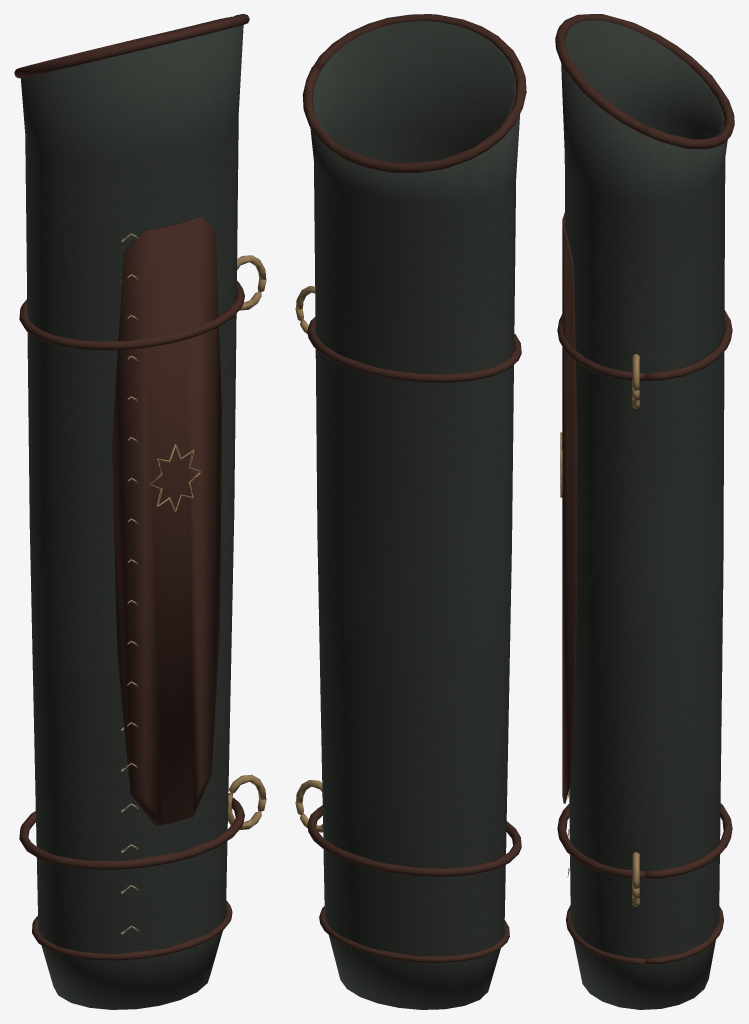
Rendered from quiver_lod1.glb.
3 views of the same model, side by side, from view 1: azimuth 30°, elevation 25°; view 2: azimuth 150°, elevation 25°; view 3: azimuth 270°, elevation 25° (orthographic). The views are drawn at different scales.
Visible parts, largest first — view 1: QuiverMesh_LOD1; view 2: QuiverMesh_LOD1; view 3: QuiverMesh_LOD1.
Part boxes in pixels (x1,y1,x2,y2): QuiverMesh_LOD1: [14, 14, 266, 1009]; QuiverMesh_LOD1: [295, 14, 526, 1009]; QuiverMesh_LOD1: [555, 14, 734, 1009].
Bounding box in the file's own units: 0.177 × 0.6985 × 0.121.
Materials: 4 (3 with a texture image).
